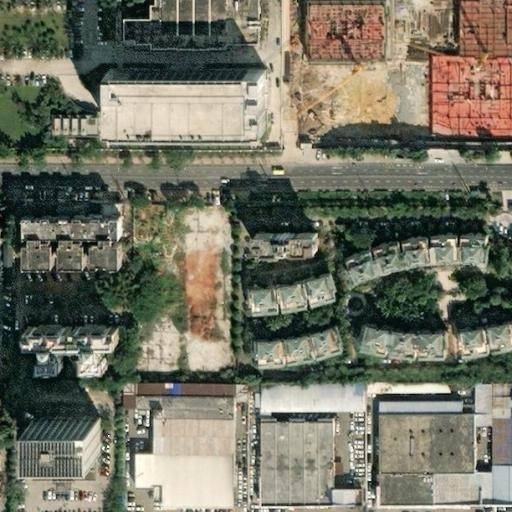building: (101, 69, 259, 127), (144, 415, 226, 505), (369, 401, 469, 474), (351, 240, 494, 285), (254, 421, 327, 509), (19, 217, 121, 276), (314, 3, 392, 65), (443, 59, 512, 123), (22, 326, 124, 369), (370, 473, 484, 509), (257, 382, 361, 414), (253, 280, 340, 316), (468, 400, 512, 468), (258, 333, 342, 368), (22, 423, 90, 461), (315, 93, 378, 131), (373, 335, 447, 362), (473, 12, 512, 59), (365, 373, 454, 393), (18, 203, 114, 221), (440, 11, 473, 60), (130, 383, 229, 399), (463, 327, 512, 358), (248, 233, 310, 254), (47, 109, 99, 134), (484, 468, 512, 507), (468, 382, 512, 401), (22, 461, 54, 475), (328, 490, 351, 509), (118, 392, 130, 411), (249, 393, 258, 407), (253, 412, 264, 417)
